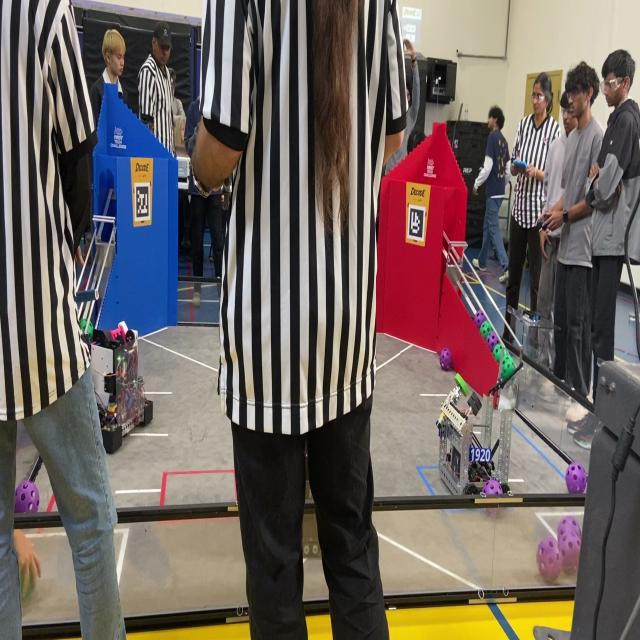artifact_green: (20, 571, 33, 599), (467, 392, 481, 415), (502, 355, 515, 378), (455, 374, 468, 397), (80, 319, 93, 340), (499, 354, 508, 378), (493, 343, 503, 364), (481, 321, 492, 340), (79, 318, 88, 333), (503, 352, 513, 364), (503, 352, 513, 363), (500, 366, 507, 380)
artifact_purple: (537, 537, 562, 584), (558, 532, 581, 573), (15, 481, 39, 513), (566, 463, 587, 494), (557, 517, 581, 539), (483, 480, 502, 496), (483, 480, 503, 495), (440, 348, 452, 370), (486, 331, 499, 351), (474, 310, 487, 329)
